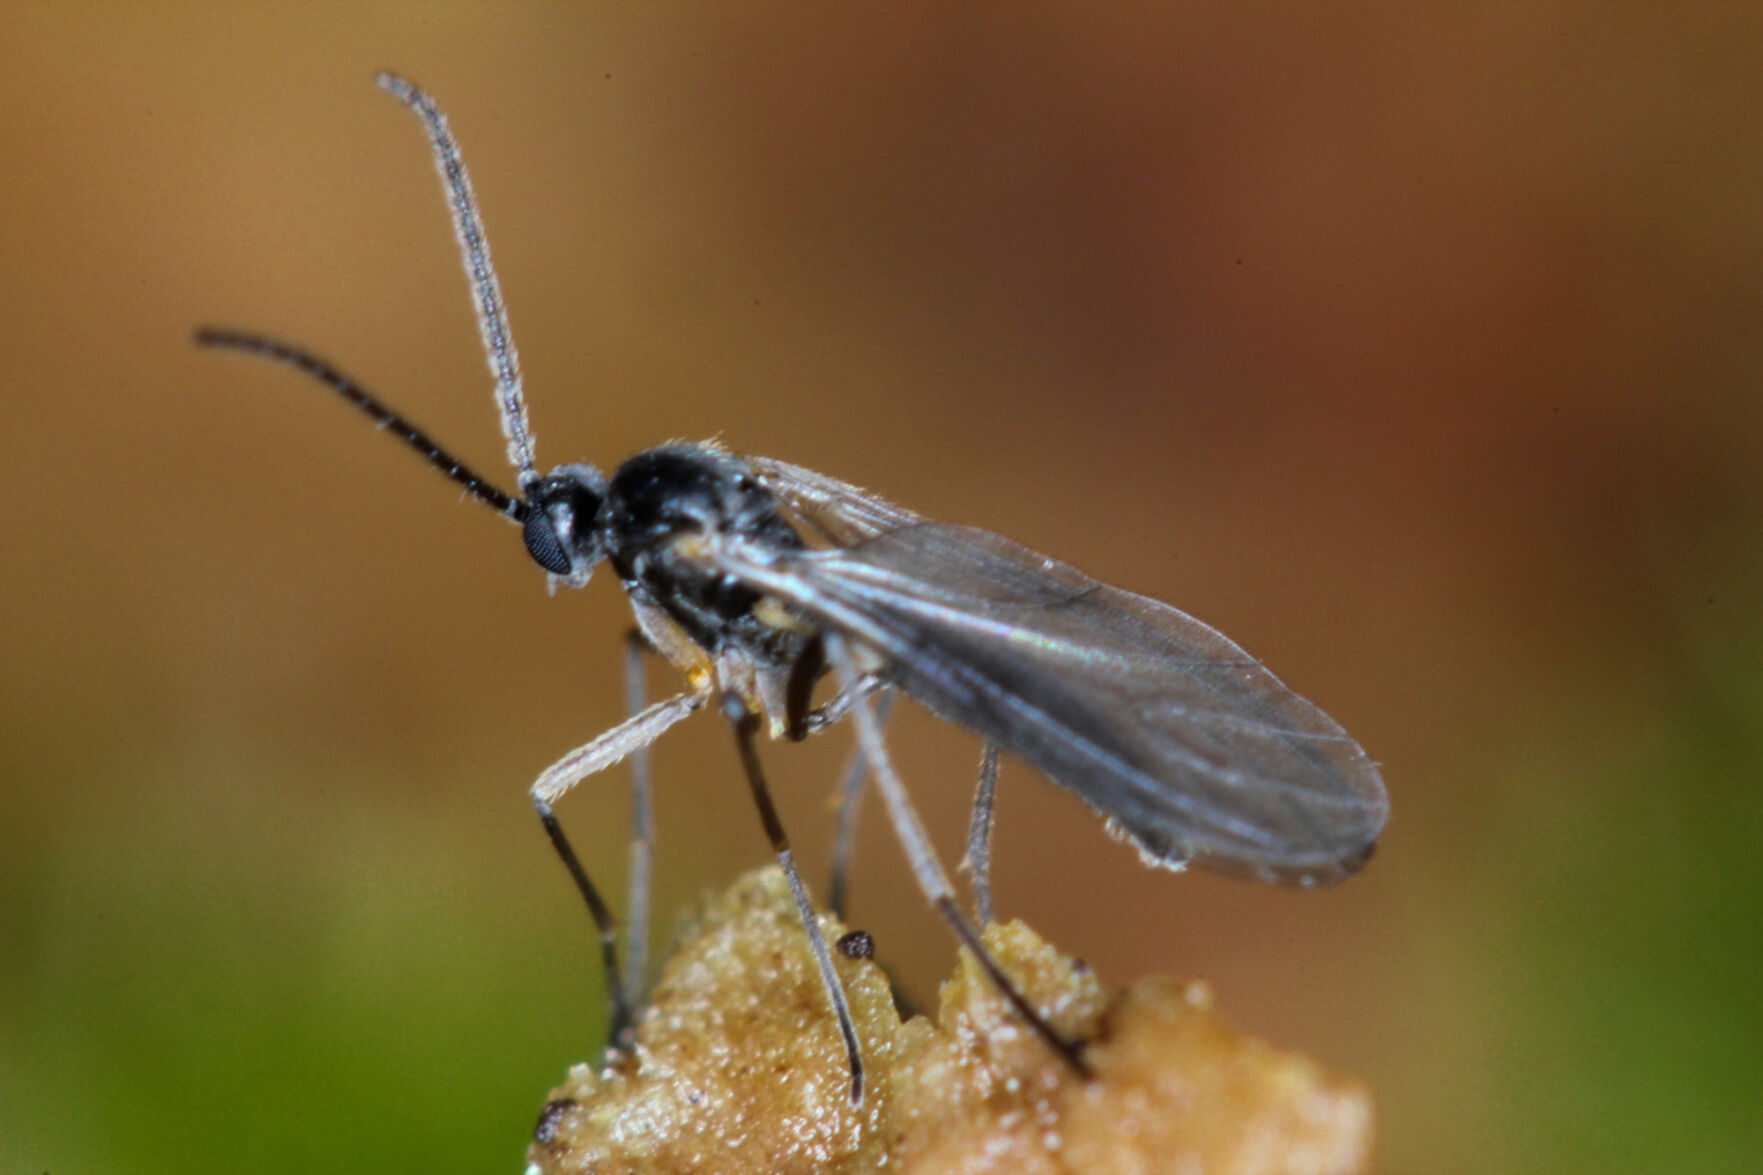Fruit fly: (260, 201, 1354, 1022)
